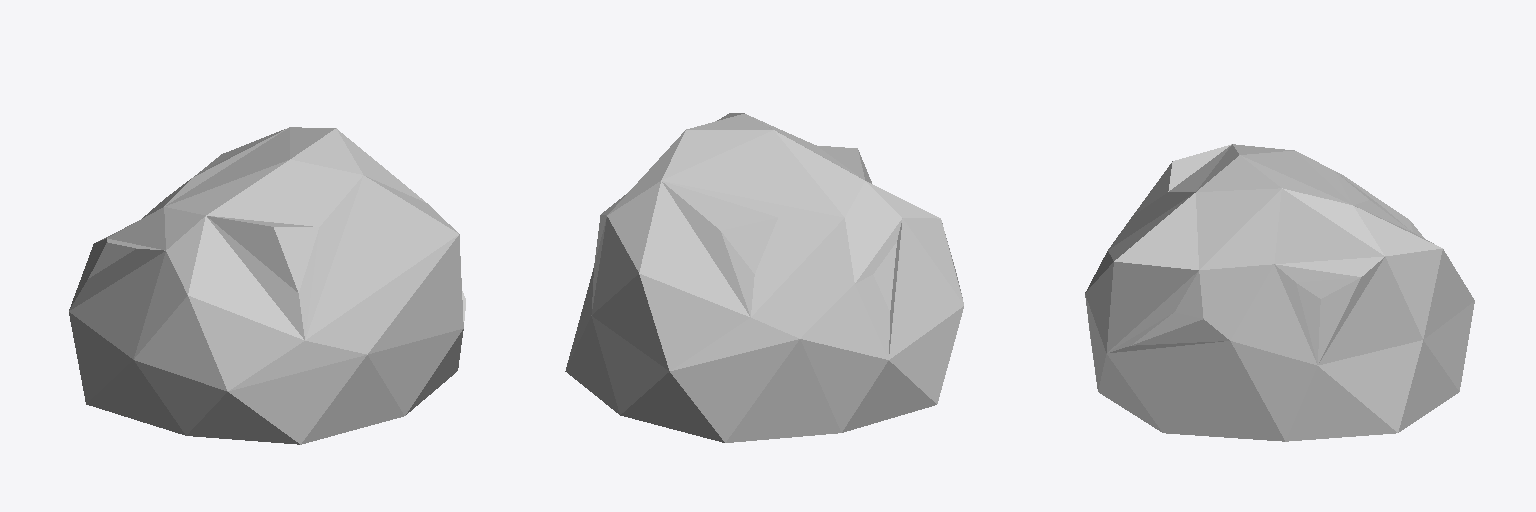
Rendered from Stone.obj.
The picture shows the model from 3 angles: view 1: azimuth 30°, elevation 25°; view 2: azimuth 150°, elevation 25°; view 3: azimuth 270°, elevation 25°; orthographic projection.
Visible parts, largest first — view 1: Icosphere; view 2: Icosphere; view 3: Icosphere.
Part boxes in pixels (bbox=[...]): Icosphere: bbox=[69, 127, 465, 444]; Icosphere: bbox=[565, 113, 963, 442]; Icosphere: bbox=[1085, 144, 1474, 441].
Size of the model in its own units: 1.99 by 1.21 by 1.98.